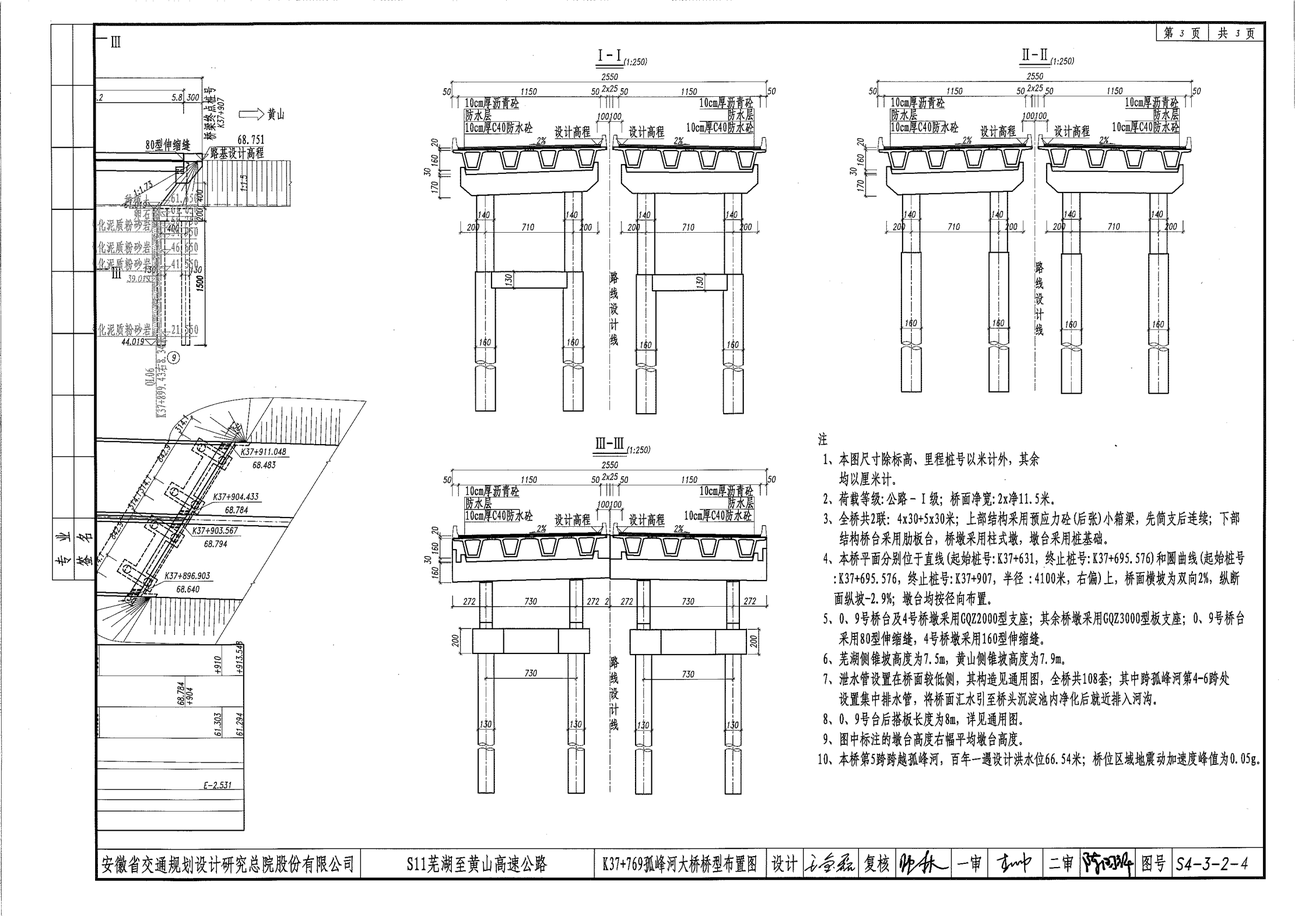A: (70, 63, 279, 378)
